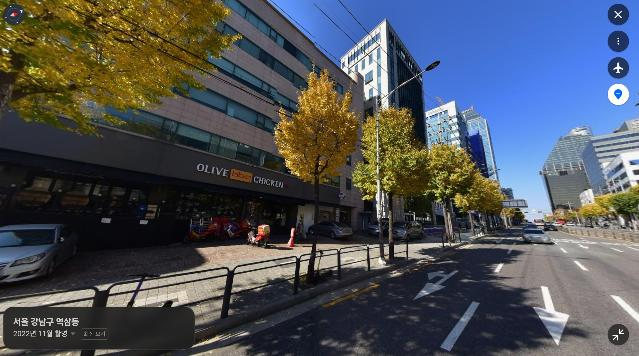ginkgo: (0, 0, 244, 141), (273, 61, 364, 286), (351, 104, 437, 264), (414, 140, 474, 249), (451, 160, 499, 237), (476, 179, 509, 232), (607, 185, 639, 231), (590, 194, 616, 230), (569, 202, 597, 228), (503, 203, 517, 229)
